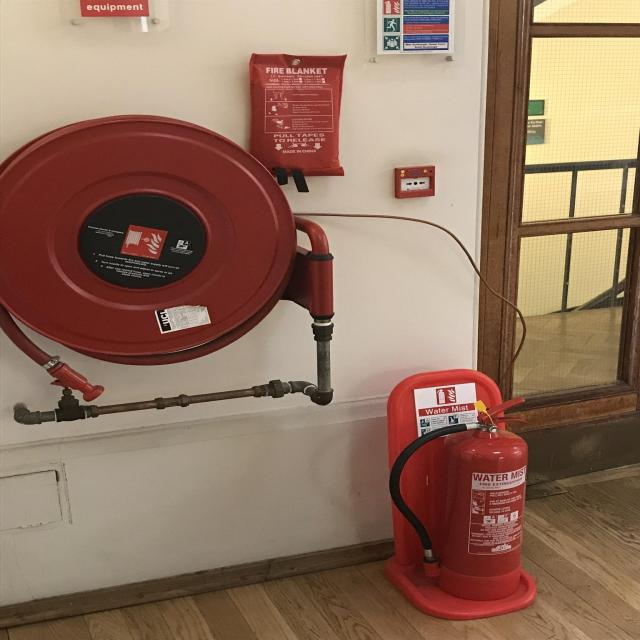fire_extinguisher: (386, 393, 536, 603)
